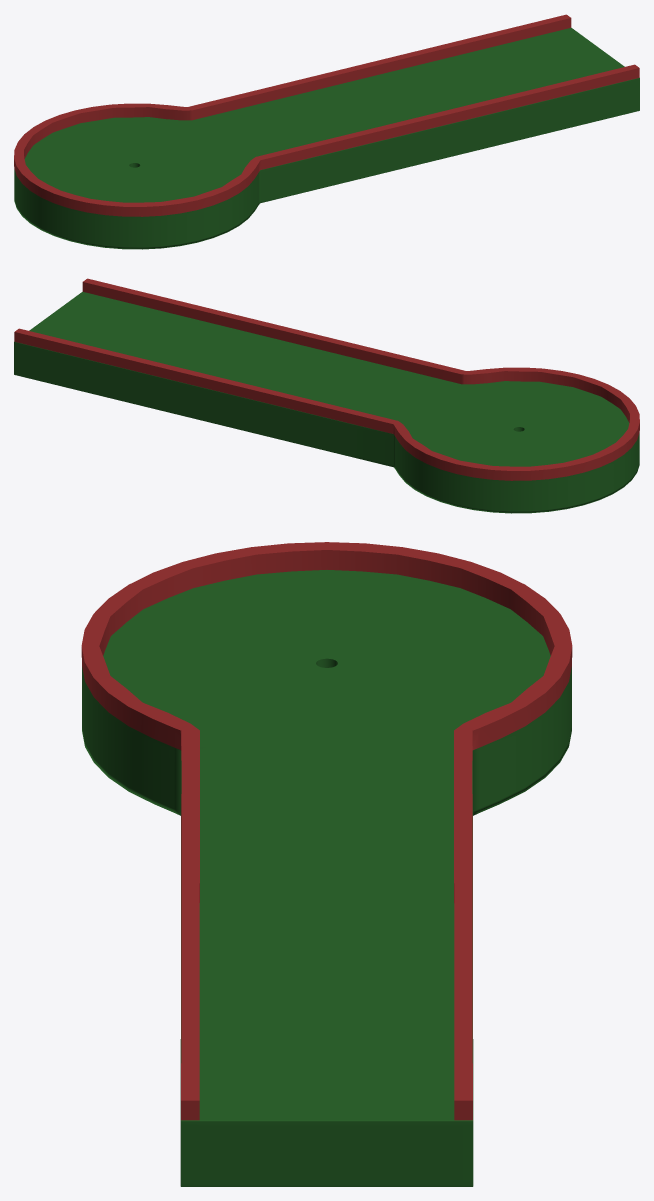
The model's file is holeOne.fbx.
3 renders of one model, top to bottom at view 1: azimuth 30°, elevation 25°; view 2: azimuth 150°, elevation 25°; view 3: azimuth 270°, elevation 25°, orthographic. The views are drawn at different scales.
Visible parts, largest first — view 1: holeOneGround1; view 2: holeOneGround1; view 3: holeOneGround1.
Part boxes in pixels (<box>): holeOneGround1: <box>14,14,639,249</box>; holeOneGround1: <box>14,278,639,513</box>; holeOneGround1: <box>81,542,572,1186</box>.
Bounding box in the file's own units: 18.1 × 1.3 × 6.71.
